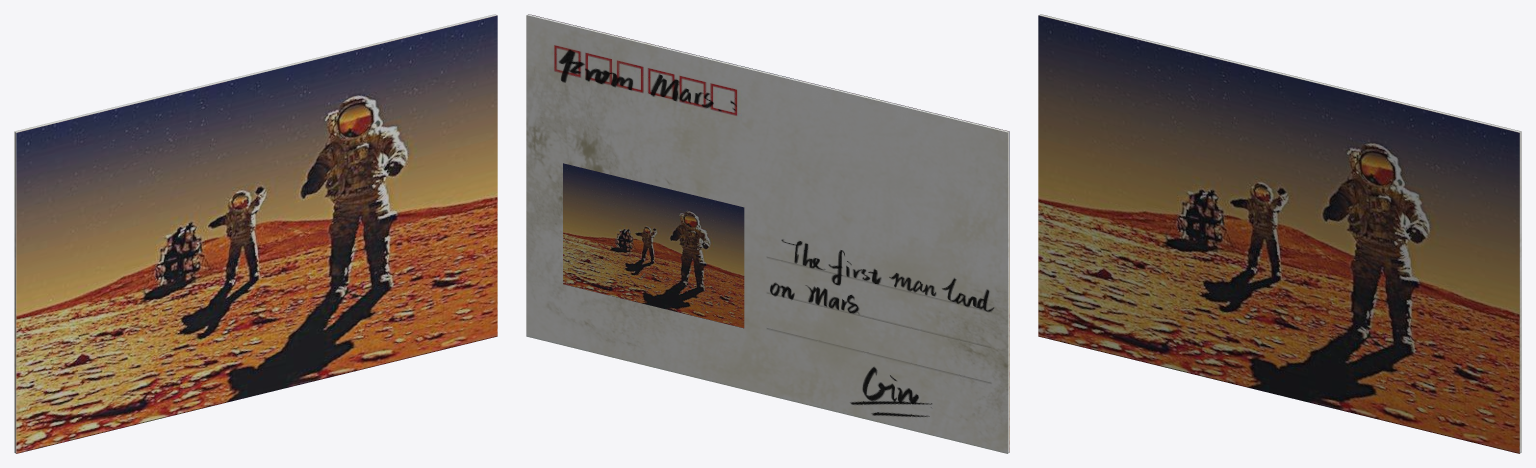
Rendered from obj_002_postcard.fbx.
3 views of the same model, side by side, from view 1: azimuth 30°, elevation 25°; view 2: azimuth 150°, elevation 25°; view 3: azimuth 330°, elevation 25° (orthographic).
Parts seen in each view (by area): view 1: polySurface2, pasted__polySurface1, polySurface1; view 2: polySurface1, pasted__polySurface2, pasted__polySurface1, polySurface2; view 3: polySurface2, pasted__polySurface1, polySurface1.
Boxes of the visible parts, <box> form: polySurface2: <box>16,15,497,453</box>; pasted__polySurface1: <box>14,14,497,453</box>; polySurface1: <box>14,14,495,452</box>; polySurface1: <box>526,15,1007,453</box>; pasted__polySurface2: <box>563,163,744,328</box>; pasted__polySurface1: <box>526,14,1009,453</box>; polySurface2: <box>528,14,1009,452</box>; polySurface2: <box>1038,15,1519,453</box>; pasted__polySurface1: <box>1038,14,1521,453</box>; polySurface1: <box>1040,14,1521,452</box>.
Bounding box in the file's own units: 2.53 × 1.62 × 0.0251.
Materials: 4 (4 with a texture image).
